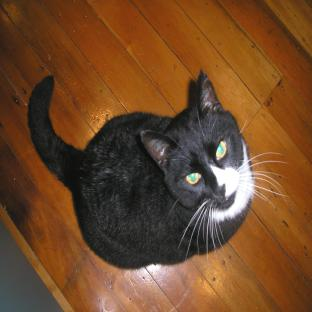Animal: (28, 71, 255, 268)
